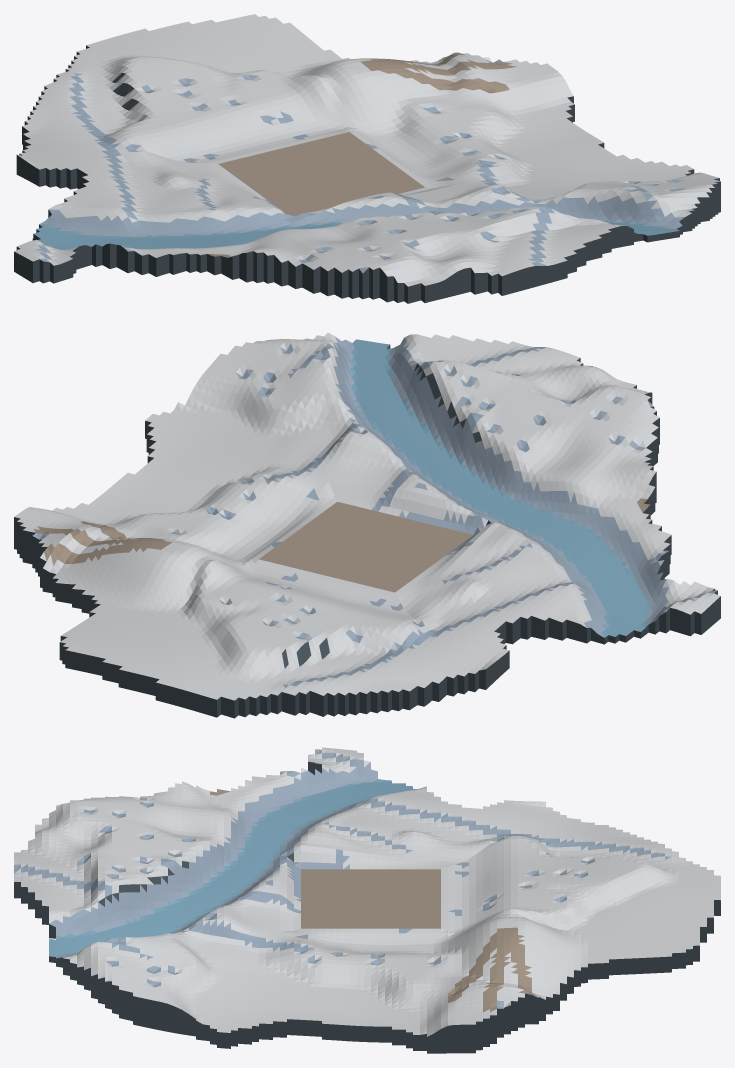
Rendered from christmas-village-terrain-662c58.glb.
3 views of the same model, one above another, from view 1: azimuth 30°, elevation 25°; view 2: azimuth 150°, elevation 25°; view 3: azimuth 270°, elevation 25° (orthographic). The views are drawn at different scales.
Parts seen in each view (by area): view 1: christmas-village-ground; view 2: christmas-village-ground; view 3: christmas-village-ground.
Part boxes in pixels (bbox=[...]): christmas-village-ground: bbox=[14, 14, 720, 303]; christmas-village-ground: bbox=[14, 332, 720, 718]; christmas-village-ground: bbox=[14, 747, 720, 1053].
Bounding box in the file's own units: 92 × 12.57 × 101.
